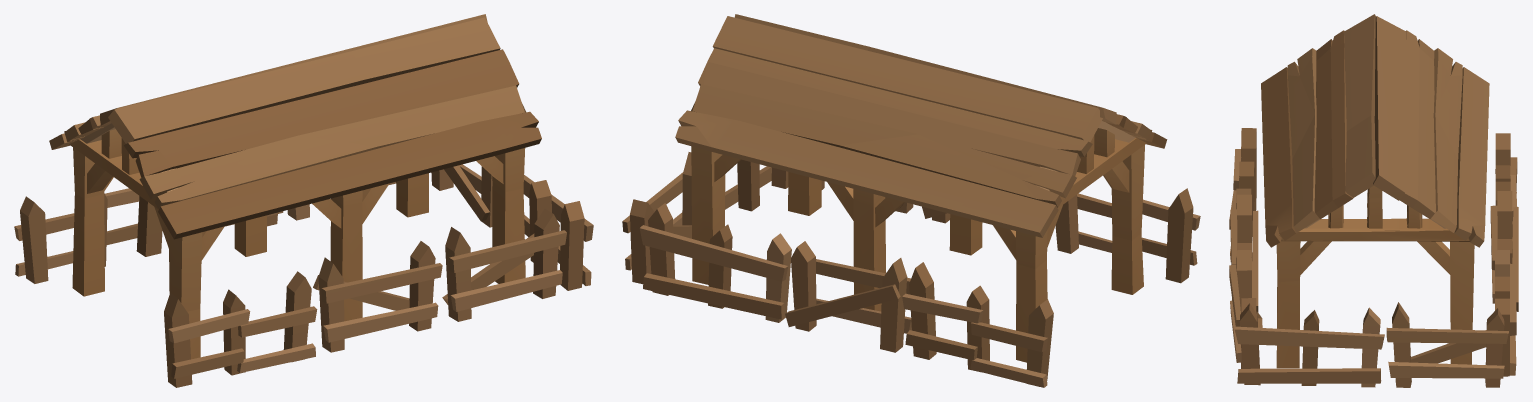
File: House_Stable_C.fbx
The picture shows the model from 3 angles, left to right: view 1: azimuth 30°, elevation 25°; view 2: azimuth 150°, elevation 25°; view 3: azimuth 270°, elevation 25°; orthographic projection. The views are drawn at different scales.
Parts seen in each view (by area): view 1: House_Stable_C; view 2: House_Stable_C; view 3: House_Stable_C.
Part boxes in pixels (bbox=[...]): House_Stable_C: bbox=[14, 14, 593, 387]; House_Stable_C: bbox=[622, 14, 1200, 387]; House_Stable_C: bbox=[1229, 14, 1518, 387].
Size of the model in its own units: 576 by 288 by 375.
